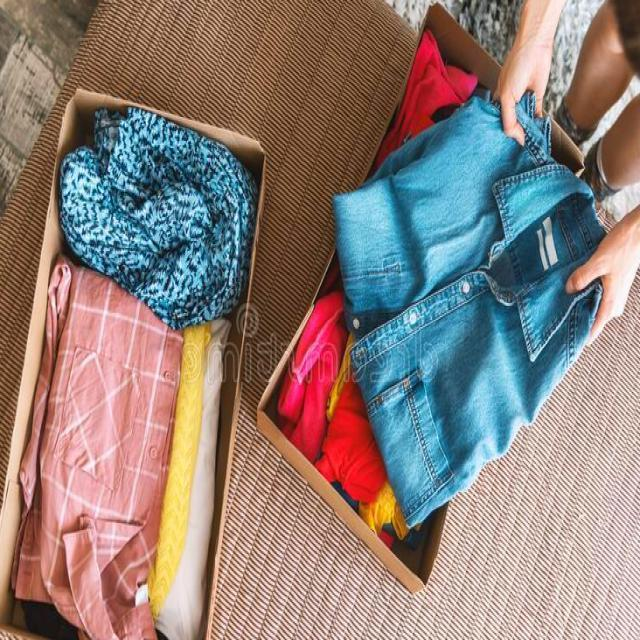clothes: (358, 109, 611, 482), (46, 263, 203, 640), (86, 123, 244, 294)
